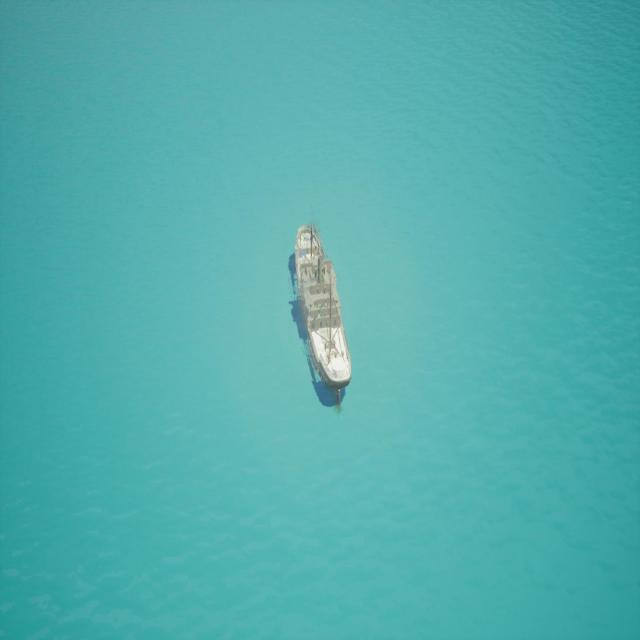fishing ship: (279, 212, 392, 436)
